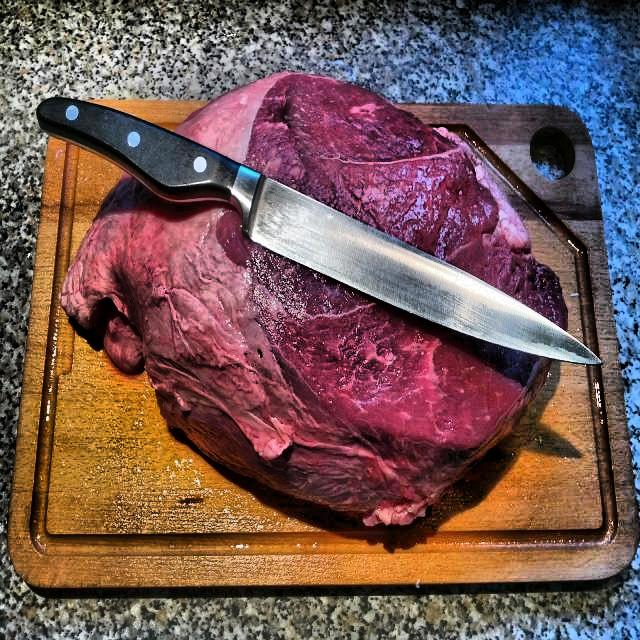knife: (39, 90, 600, 378)
